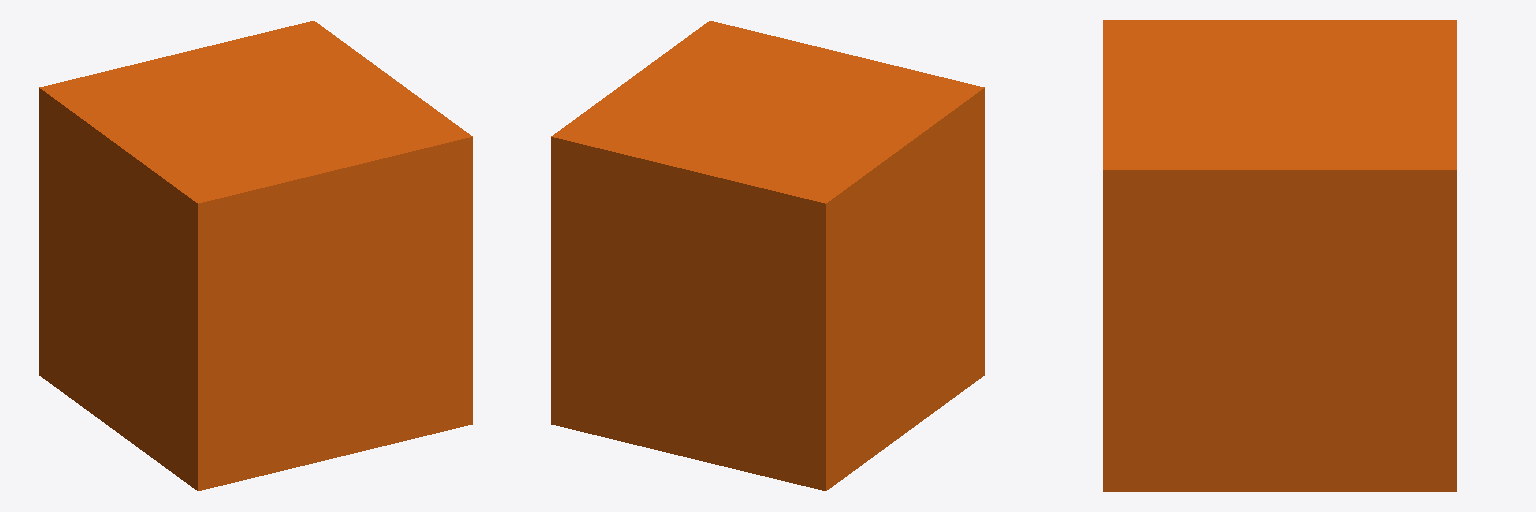
URDF robot description (box):
<?xml version="1.0"?>
<!-- cadpy:sourcePath=../../dimos/robot/sim2_lab/gen_box.py -->
<!-- cadpy:sourceHash=35faa6e3791f67b3ba643f97c7f04ad7c0b1f75ef2f517fedd42dc416c28142e -->
<robot name="box">
  <link name="box">
    <inertial>
      <origin xyz="0 0 0" />
      <mass value="0.2" />
      <inertia ixx="0.00033333333333333343" iyy="0.00033333333333333343" izz="0.00033333333333333343" ixy="0" ixz="0" iyz="0" />
    </inertial>
    <visual>
      <origin xyz="0 0 0" />
      <geometry>
        <box size="0.1 0.1 0.1" />
      </geometry>
      <material name="box">
        <color rgba=".9 .45 .12 1" />
      </material>
    </visual>
    <collision>
      <origin xyz="0 0 0" />
      <geometry>
        <box size="0.1 0.1 0.1" />
      </geometry>
    </collision>
  </link>
</robot>

--- What the picture shows (computed from the rendered views, not written in the file) ---
Views: 3 orthographic renders of the robot side by side, from view 1: azimuth 30°, elevation 25°; view 2: azimuth 150°, elevation 25°; view 3: azimuth 270°, elevation 25°.
Model box with 1 links and 0 joints (none), rooted at box, posed all joints at 0.
Links seen in each view (by area): view 1: box; view 2: box; view 3: box.
Boxes of the visible links, x1=… form: box: x1=39, y1=21, x2=472, y2=490; box: x1=551, y1=21, x2=984, y2=490; box: x1=1103, y1=20, x2=1456, y2=491.
Bounding box of the posed robot: 0.1 × 0.1 × 0.1 m (x, y, z).
Geometry: primitives only (box / cylinder / sphere), no mesh files.
